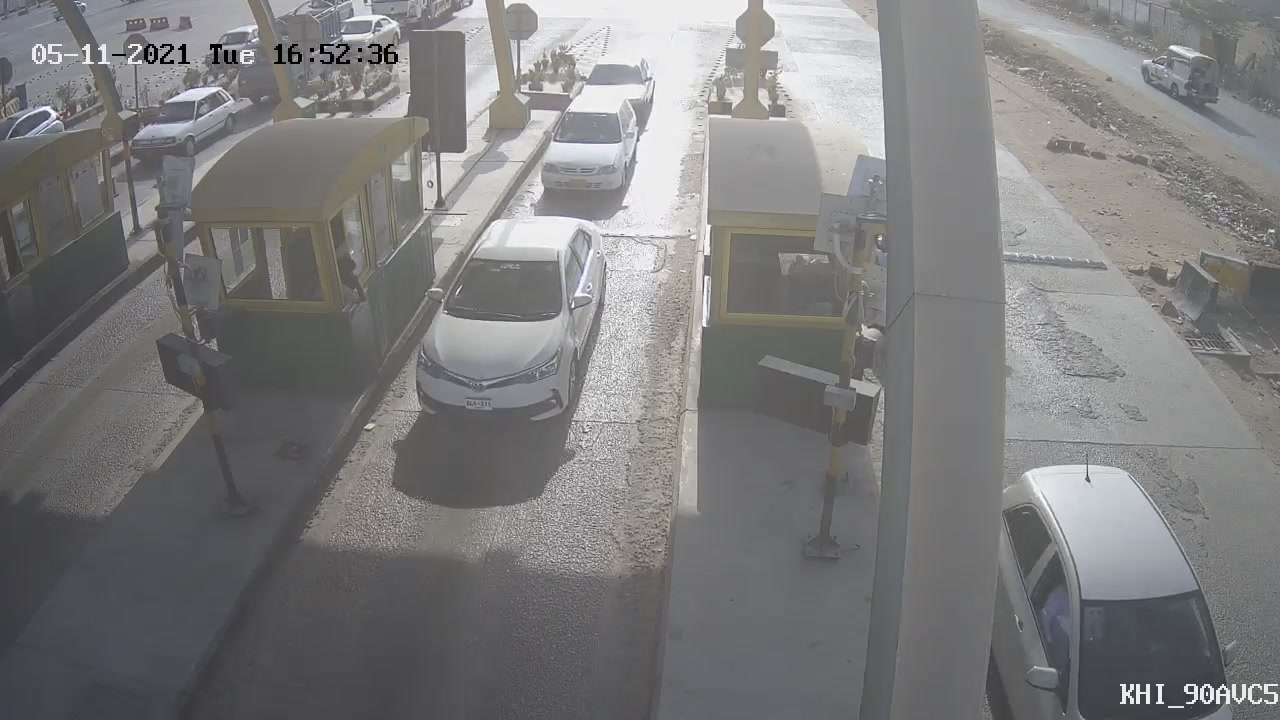F1: (385, 195, 633, 440), (524, 77, 646, 211)
